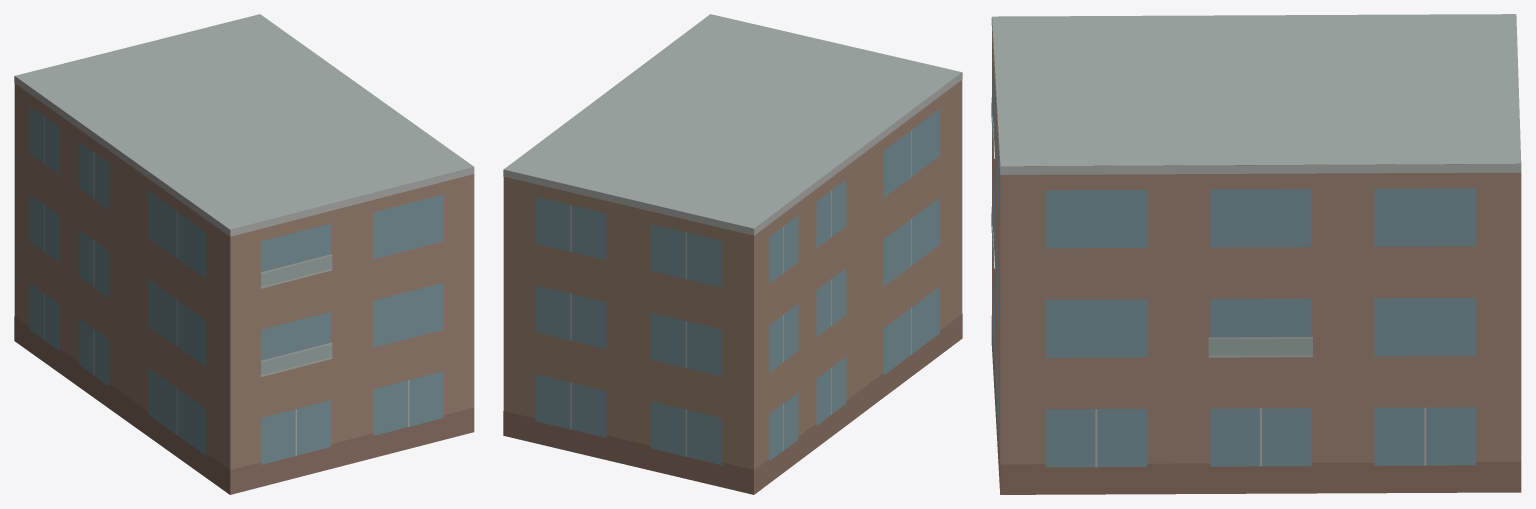
Rendered from survey-upis-32564805.glb.
3 renders of one model, left to right at view 1: azimuth 30°, elevation 25°; view 2: azimuth 150°, elevation 25°; view 3: azimuth 270°, elevation 25°, orthographic. The views are drawn at different scales.
Visible parts, largest first — view 1: survey-upis-32564805.tmp; view 2: survey-upis-32564805.tmp; view 3: survey-upis-32564805.tmp.
Boxes of the visible parts, box(x1,y1,x2,y2) form: survey-upis-32564805.tmp: box(14, 14, 474, 494); survey-upis-32564805.tmp: box(503, 14, 962, 494); survey-upis-32564805.tmp: box(991, 14, 1521, 494).
Size of the model in its own units: 9.1 by 9.15 by 13.38.
